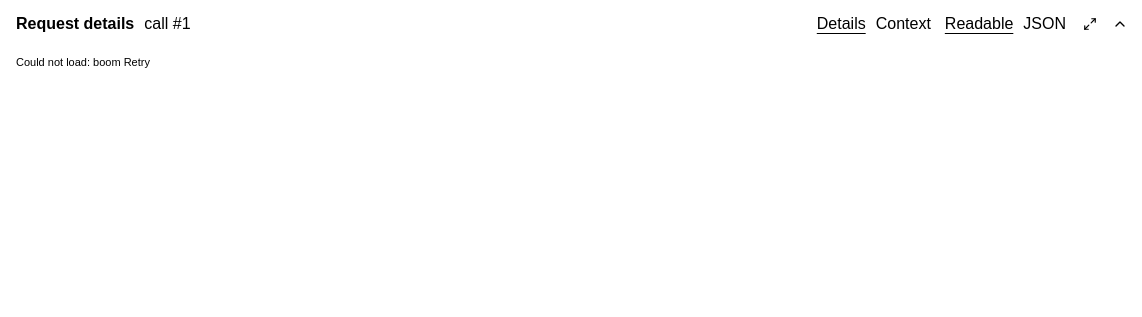
Test case: DetailPanel › explains when the request detail could not be loaded, and retries
Expected: the text "Could not load: boom" is shown, [16,56,121,68]
Click the button "Retry": (137, 62) [124,56,150,68]
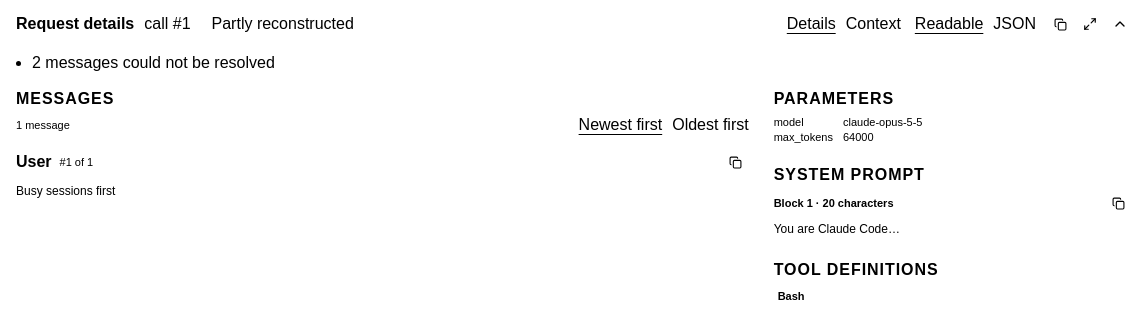
Now the text "Partly reconstructed" is shown, box [212,16,354,32]
